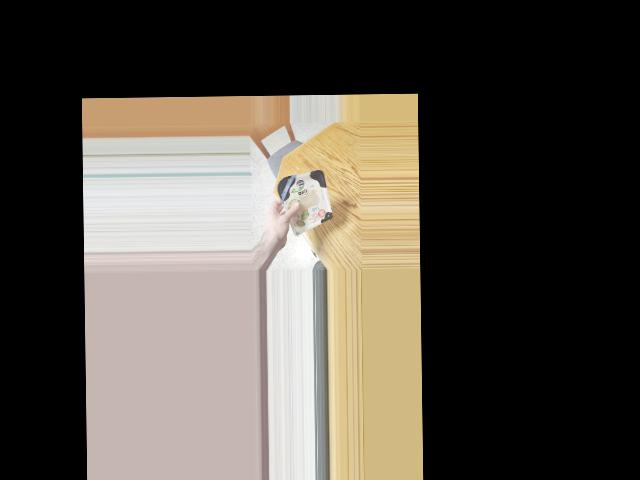cheese: (278, 171, 331, 225)
